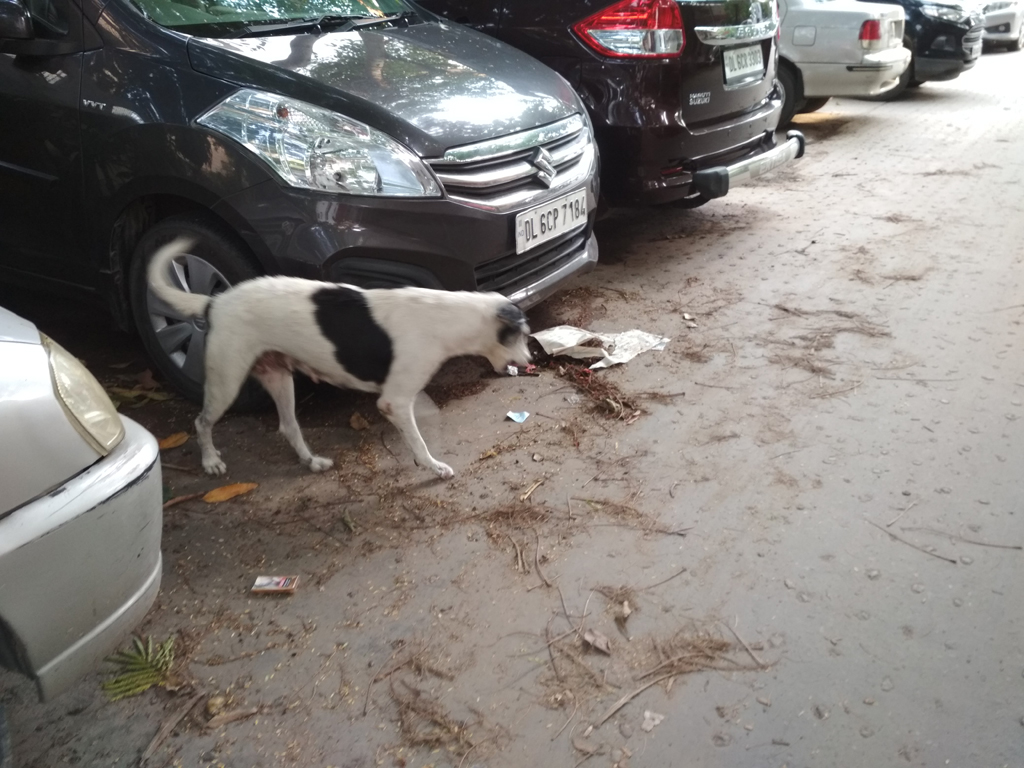dog: (152, 238, 529, 478)
